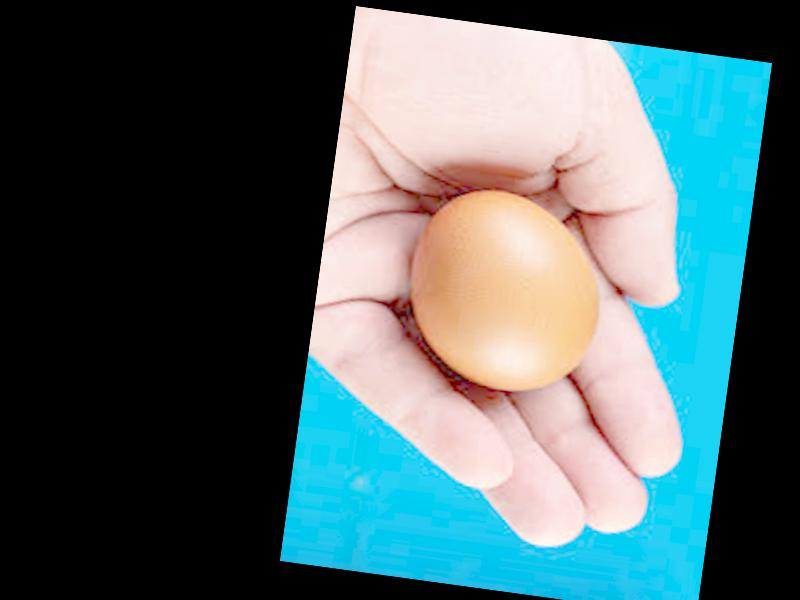Eggs: (401, 182, 612, 403)
